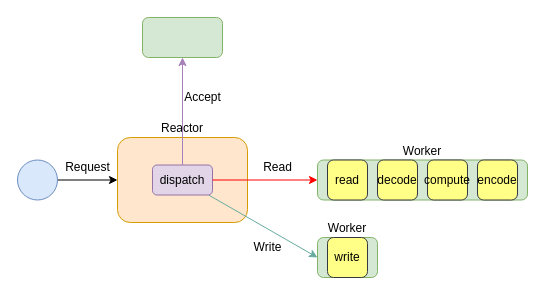
Some shapes in this 545 by 295 pixel diagram are drawn without their labels. Each missing label, with the centre of its shape:
"Accepter" goes at pixel 182 37.
"Client" goes at pixel 37 179.
